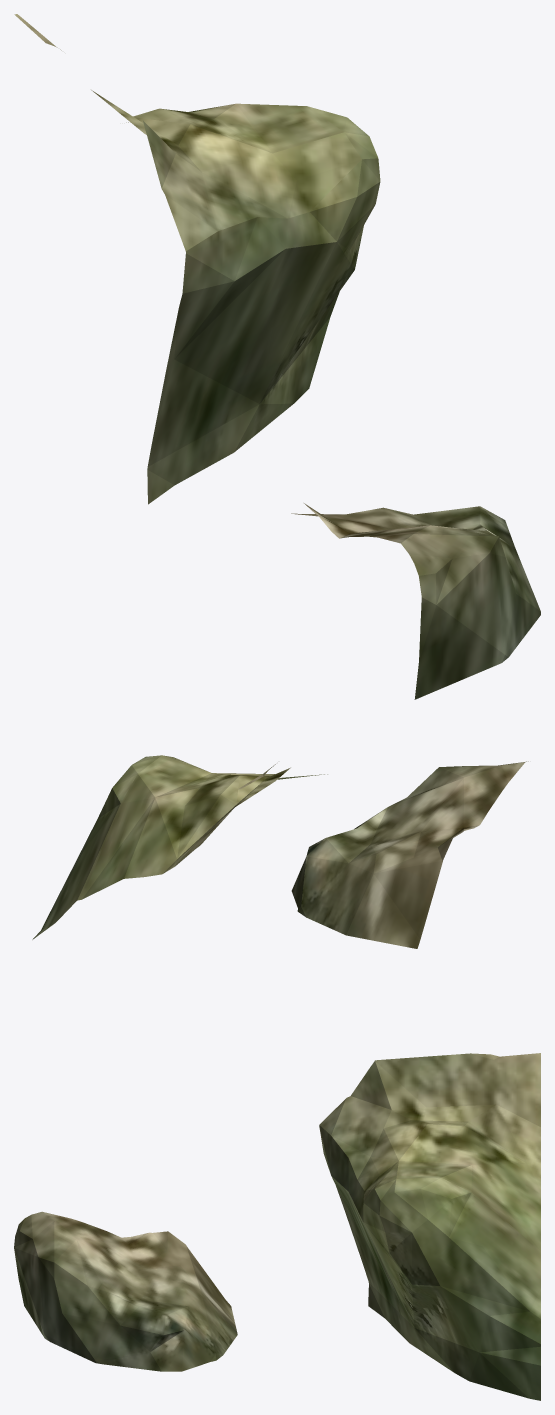
3 views of the same model, one above another, from view 1: azimuth 30°, elevation 25°; view 2: azimuth 150°, elevation 25°; view 3: azimuth 270°, elevation 25° (orthographic). The views are drawn at different scales.
Bounding box in the file's own units: 1.08 × 1.32 × 2.49.
Materials: 1 (1 with a texture image).
